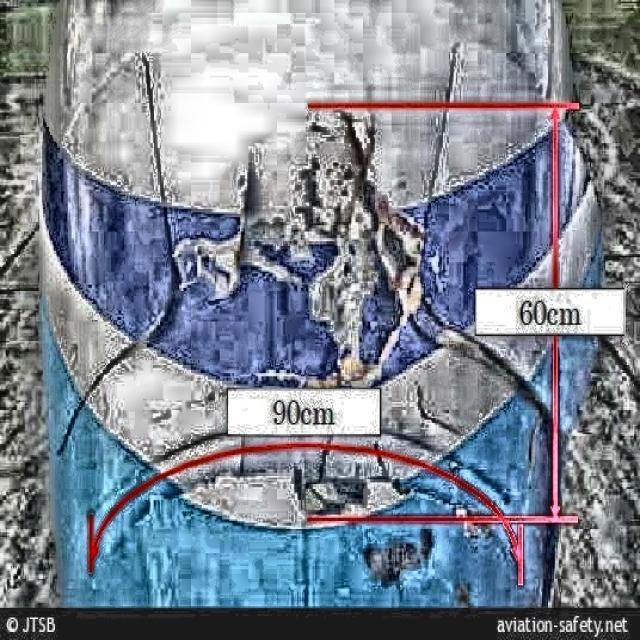crack: (324, 106, 555, 466), (214, 139, 267, 303)
